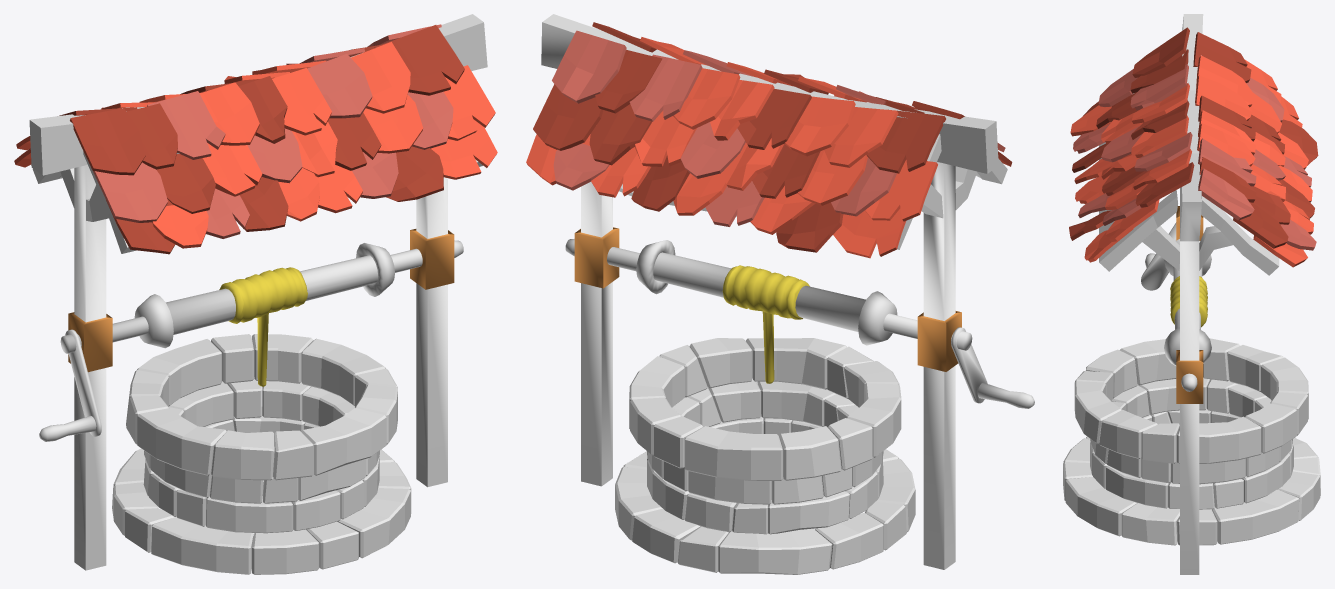
The model's file is Well.fbx.
The picture shows the model from 3 angles, left to right: view 1: azimuth 30°, elevation 25°; view 2: azimuth 150°, elevation 25°; view 3: azimuth 270°, elevation 25°; orthographic projection. The views are drawn at different scales.
Parts seen in each view (by area): view 1: Cylinder.049; view 2: Cylinder.049; view 3: Cylinder.049.
Boxes of the visible parts, <box> form: Cylinder.049: <box>14,14,497,574</box>; Cylinder.049: <box>526,14,1034,574</box>; Cylinder.049: <box>1063,14,1320,574</box>.
Size of the model in its own units: 385 by 361 by 215.
